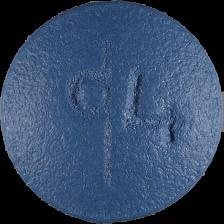54868-1432: (0, 0, 224, 224)
